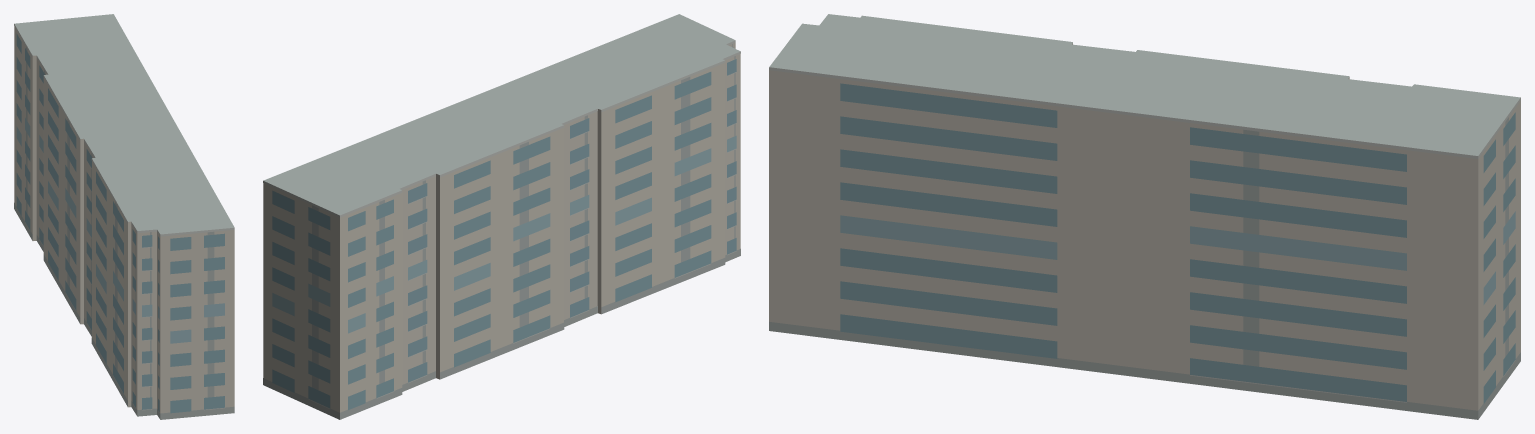
Rendered from survey-upis-32871909.glb.
3 views of the same model, side by side, from view 1: azimuth 30°, elevation 25°; view 2: azimuth 150°, elevation 25°; view 3: azimuth 270°, elevation 25° (orthographic). The views are drawn at different scales.
Parts seen in each view (by area): view 1: survey-upis-32871909.tmp; view 2: survey-upis-32871909.tmp; view 3: survey-upis-32871909.tmp.
Part boxes in pixels (x1,y1,x2,y2): survey-upis-32871909.tmp: (14, 14, 234, 419); survey-upis-32871909.tmp: (263, 14, 740, 419); survey-upis-32871909.tmp: (769, 14, 1520, 419).
Size of the model in its own units: 24.39 by 21.1 by 54.5.
